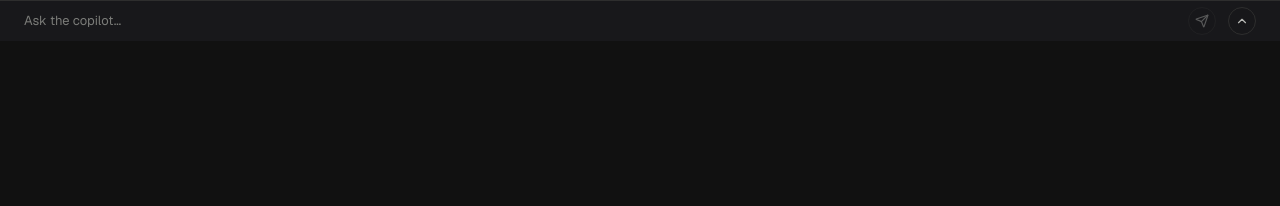
Test case: CopilotStrip — structural › collapses again on second click
The image size is (1280, 206).
Click the button named "Expand copilot panel": click(1242, 21) [1228,7,1256,35]
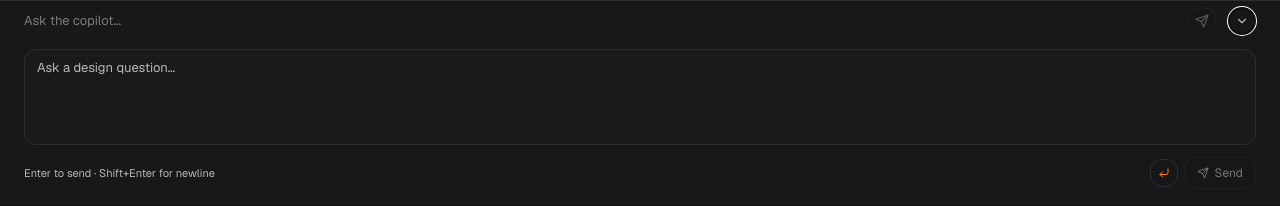
Click the button named "Collapse copilot panel": click(1242, 21) [1228,7,1256,35]
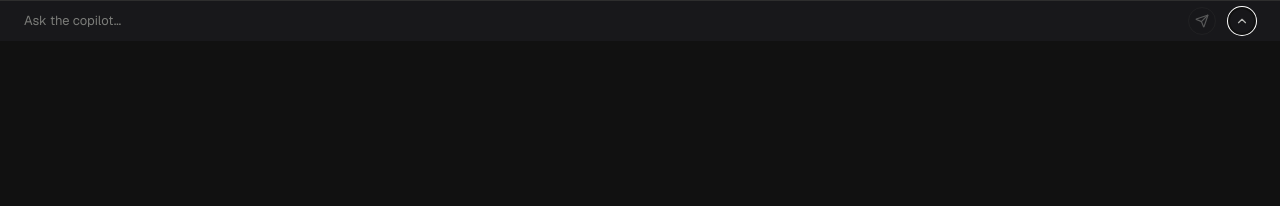
Expected: the button named "Expand copilot panel" is collapsed, [1228,7,1256,35]
